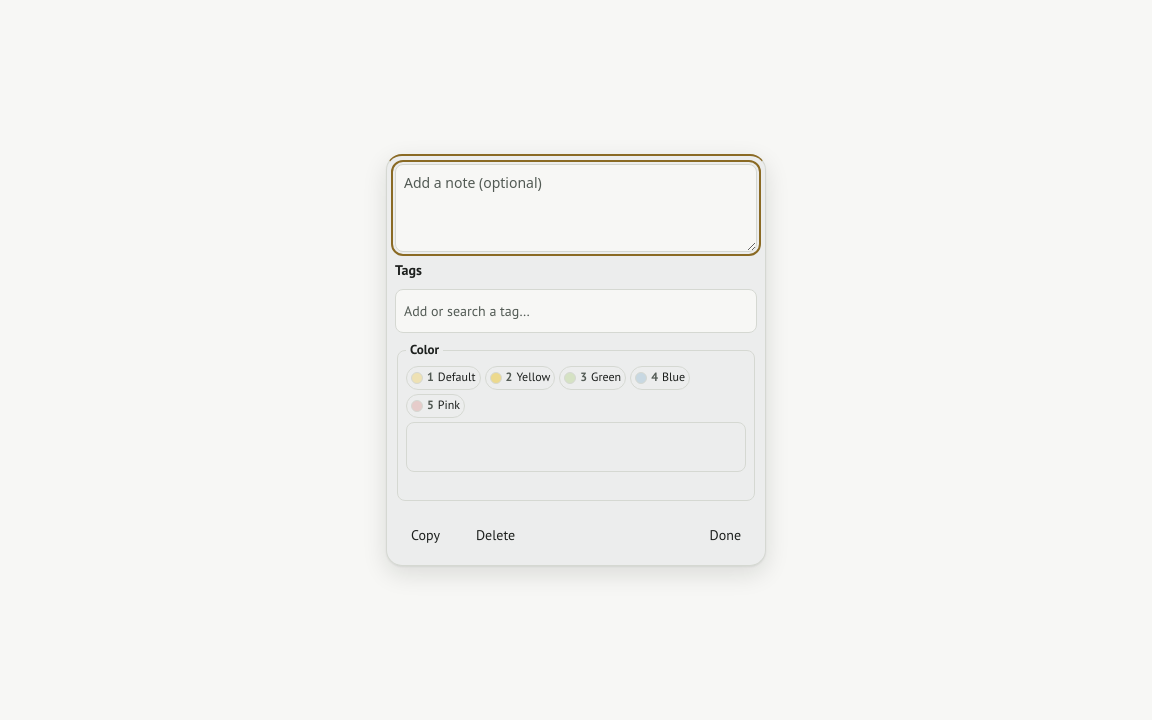
NotePopover — guarded dismissal (issue #177) › a failed Done keeps the editor + draft with the failure line + Retry
The image size is (1152, 720).
Type "a draft that must survive" into the text box with placeholder "Add a note (optional)". click: {"x": 576, "y": 208}
box: [395,164,757,252]
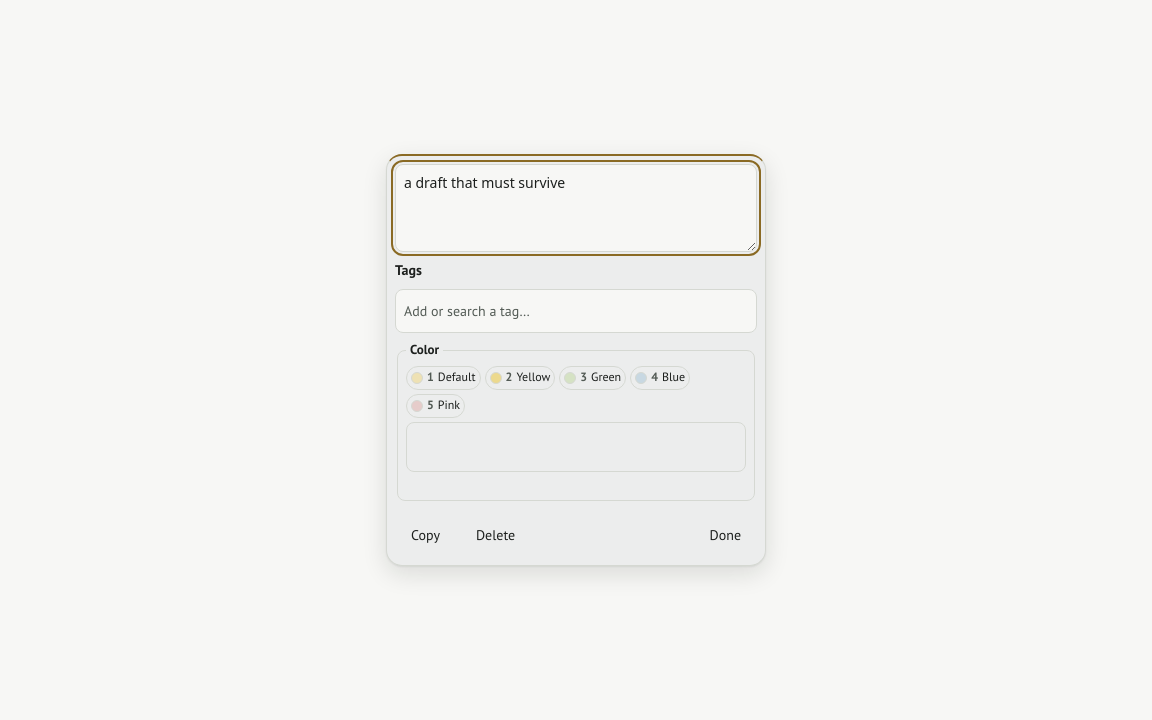
Click the button "Done". click: {"x": 725, "y": 535}
box: [694,513,757,557]
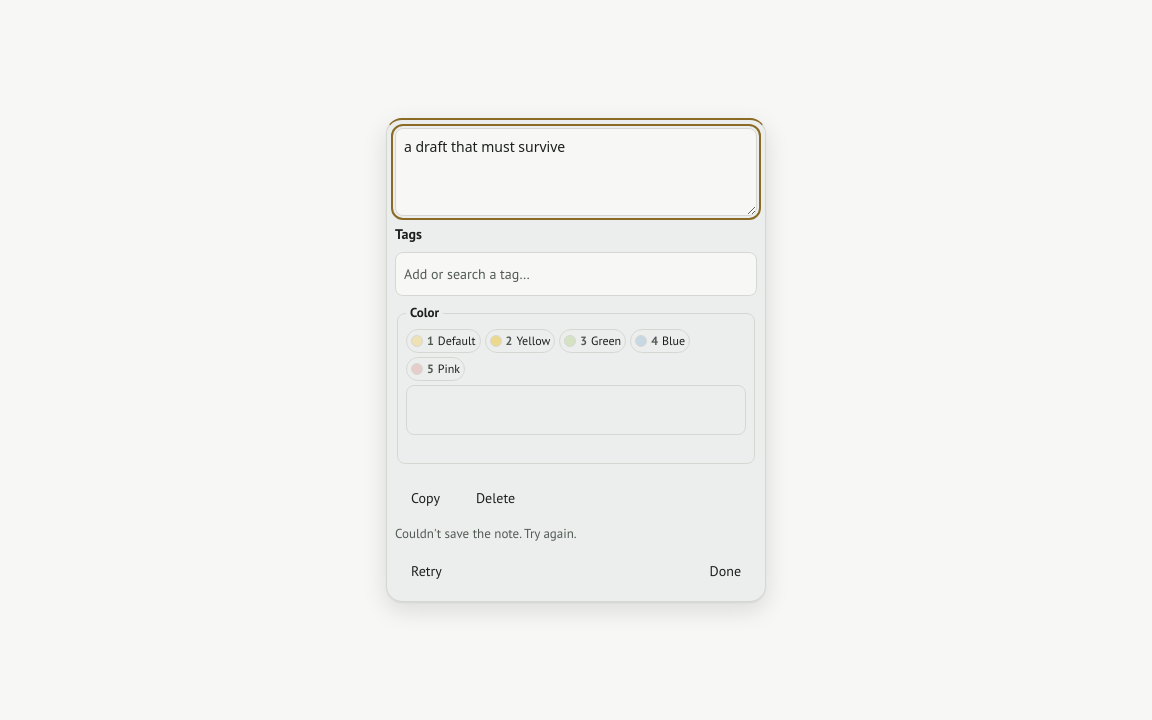
Now the text "Couldn't save the note. Try again." is shown, box [395,525,577,542]
Now the button "Retry" is shown, box [395,549,458,593]
